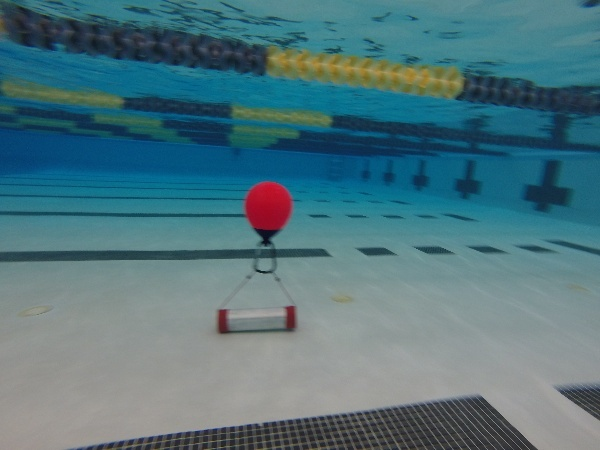buoy_red: (238, 181, 298, 245)
